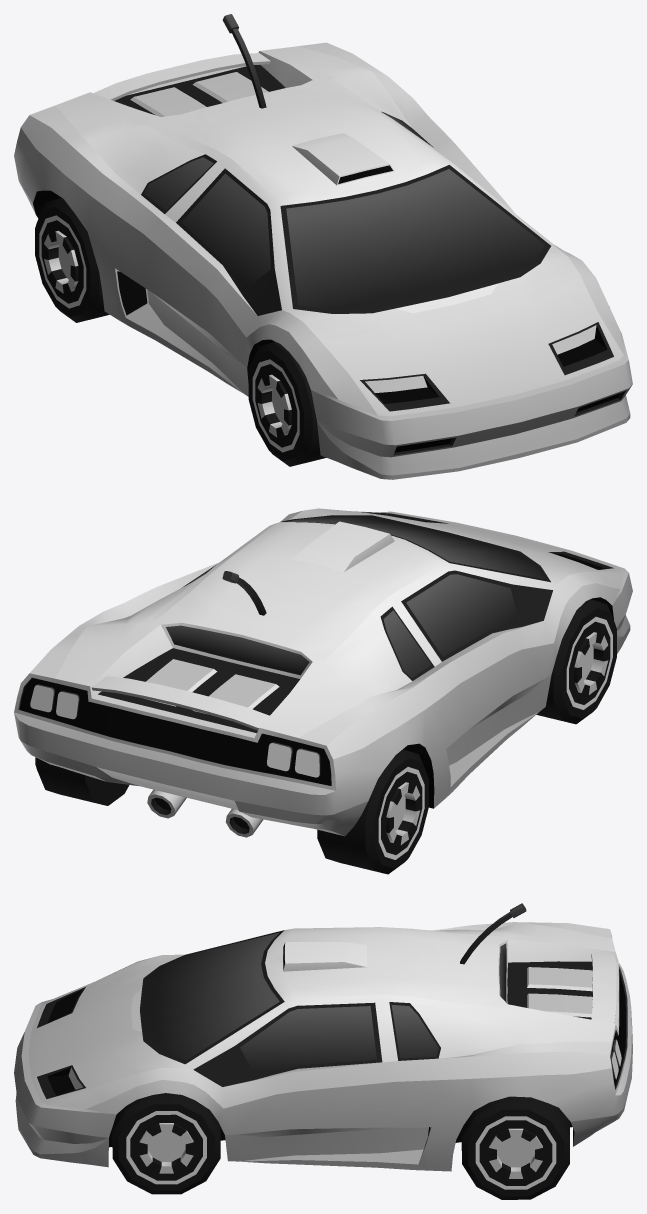
3 renders of one model, top to bottom at view 1: azimuth 30°, elevation 25°; view 2: azimuth 150°, elevation 25°; view 3: azimuth 270°, elevation 25°, orthographic. The views are drawn at different scales.
Visible parts, largest first — view 1: 6, juno.003, juno.005; view 2: 6, juno.005, juno.003, juno.004; view 3: 6, juno.004, juno.002.
Boxes of the visible parts, x1=… form: 6: x1=14, y1=14, x2=632, y2=479; juno.003: x1=248, y1=341, x2=326, y2=466; juno.005: x1=35, y1=198, x2=109, y2=322; 6: x1=14, y1=508, x2=632, y2=837; juno.005: x1=317, y1=749, x2=428, y2=874; juno.003: x1=536, y1=599, x2=616, y2=724; juno.004: x1=35, y1=757, x2=129, y2=805; 6: x1=14, y1=903, x2=632, y2=1171; juno.004: x1=461, y1=1096, x2=569, y2=1199; juno.002: x1=112, y1=1093, x2=220, y2=1194.
Size of the model in its own units: 203 by 146 by 362.
